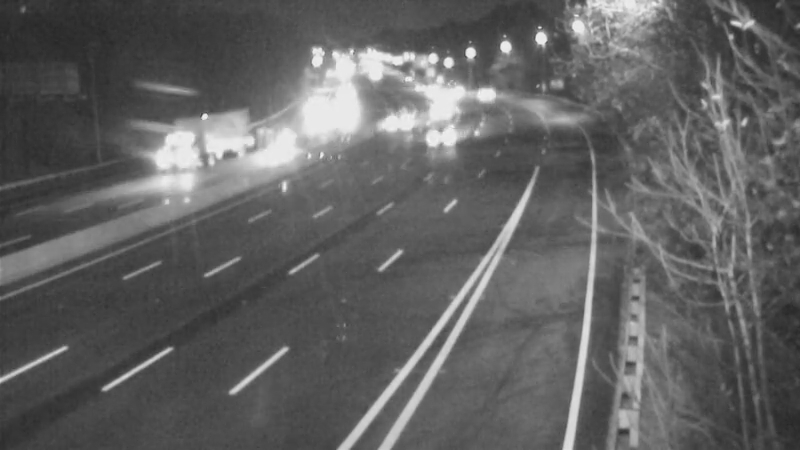vehicle: (137, 116, 217, 196), (463, 60, 513, 110), (412, 84, 462, 134), (374, 98, 424, 148), (419, 110, 469, 160), (251, 117, 301, 167)
